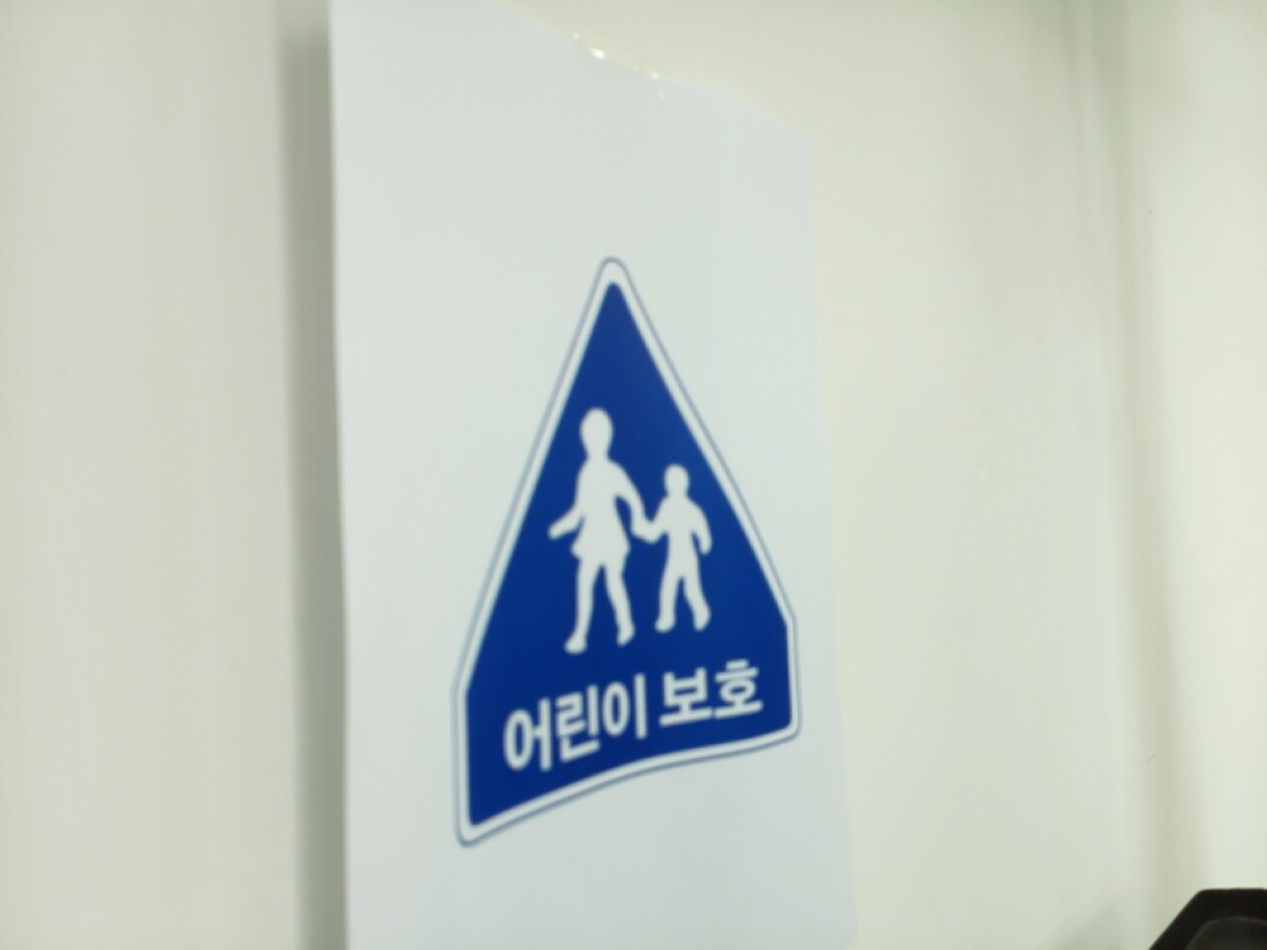school_zone: (455, 268, 802, 840)
